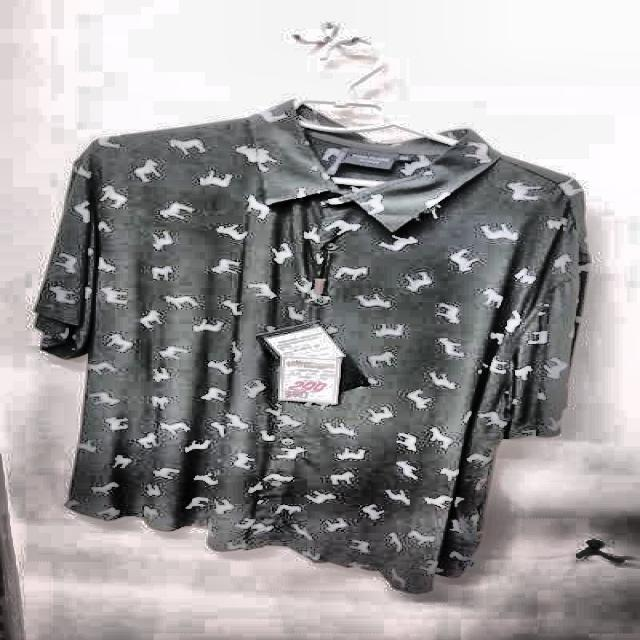clothes: (34, 96, 598, 598)
